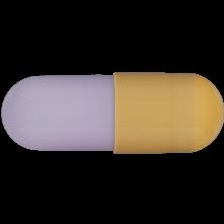0378-2260: (0, 0, 224, 224)
